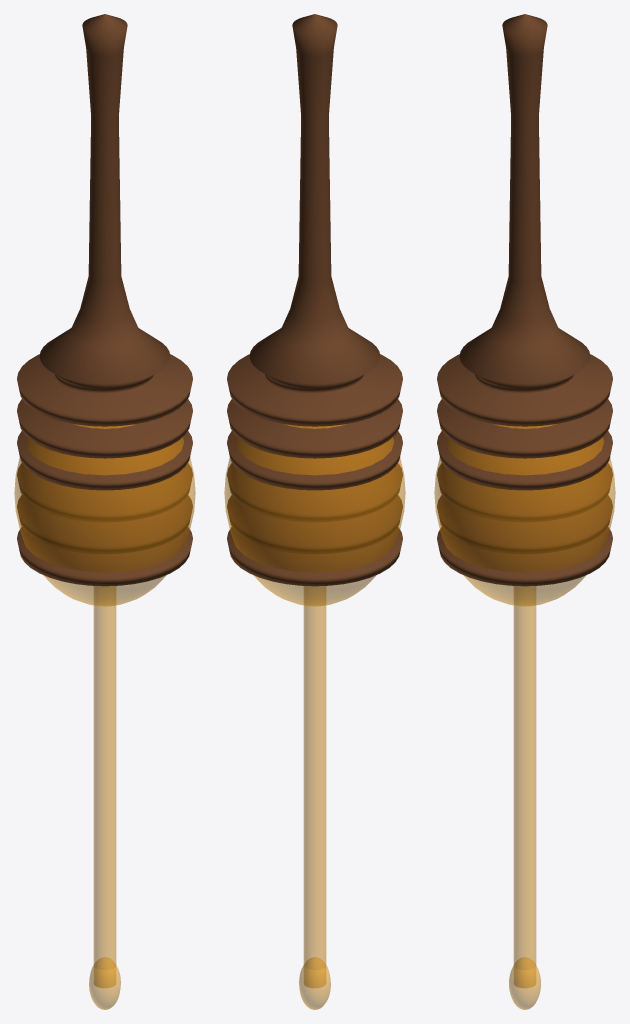
File: honey_dipper.glb
3 renders of one model, left to right at view 1: azimuth 30°, elevation 25°; view 2: azimuth 150°, elevation 25°; view 3: azimuth 270°, elevation 25°, orthographic.
Parts seen in each view (by area): view 1: ArtisanHoneyDipper, HoneyDripStream; view 2: ArtisanHoneyDipper, HoneyDripStream; view 3: ArtisanHoneyDipper, HoneyDripStream.
Boxes of the visible parts, x1,y1,x2,y2 form: ArtisanHoneyDipper: [14, 14, 195, 1009]; HoneyDripStream: [93, 586, 116, 987]; ArtisanHoneyDipper: [224, 14, 405, 1009]; HoneyDripStream: [303, 586, 326, 987]; ArtisanHoneyDipper: [434, 14, 615, 1009]; HoneyDripStream: [513, 586, 536, 987].
Bounding box in the file's own units: 0.72 × 4.36 × 0.72.
